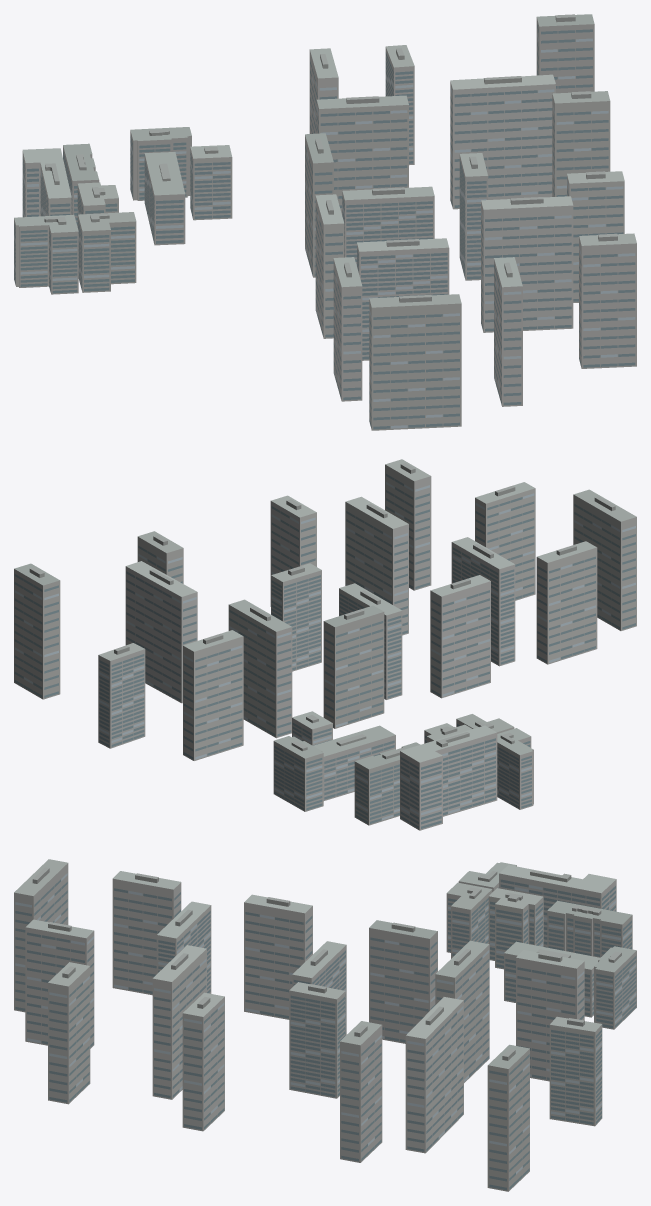
The model's file is apt-a13010006.glb.
The picture shows the model from 3 angles, top to bottom: view 1: azimuth 30°, elevation 25°; view 2: azimuth 150°, elevation 25°; view 3: azimuth 270°, elevation 25°; orthographic projection. The views are drawn at different scales.
Visible parts, largest first — view 1: apt-a13010006; view 2: apt-a13010006; view 3: apt-a13010006.
Boxes of the visible parts, left/top/right/bottom form: apt-a13010006: left=14, top=14, right=636, bottom=430; apt-a13010006: left=14, top=459, right=636, bottom=830; apt-a13010006: left=14, top=859, right=636, bottom=1191.
Bounding box in the file's own units: 348 × 76 × 338.
